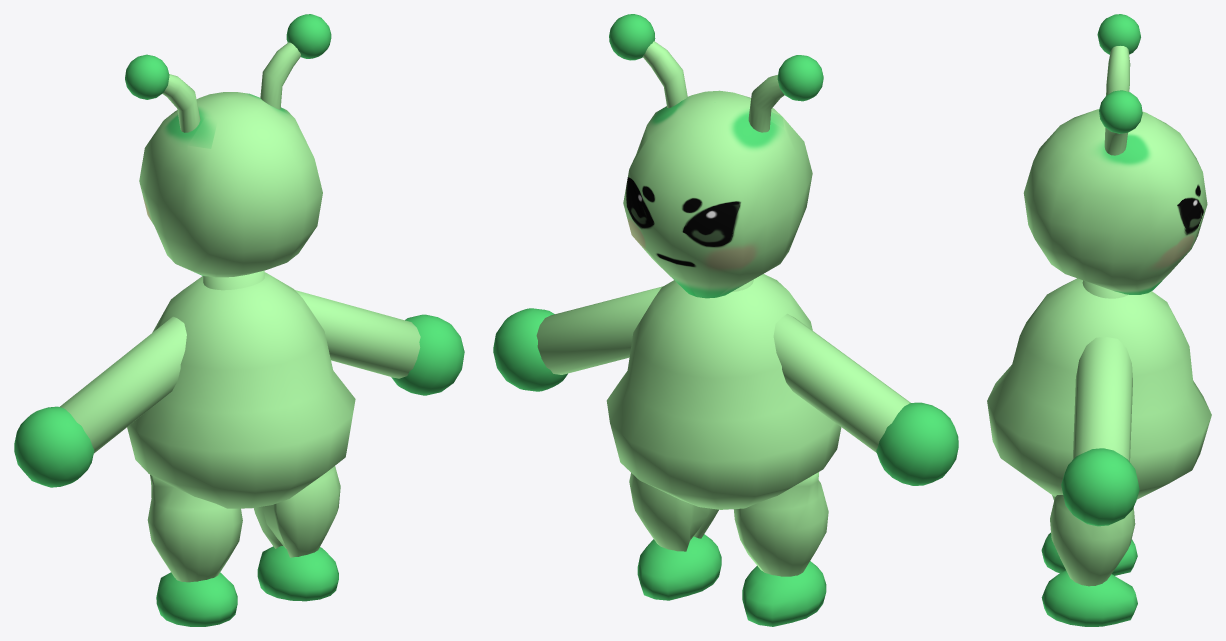
The model's file is alien.fbx.
The picture shows the model from 3 angles, left to right: view 1: azimuth 30°, elevation 25°; view 2: azimuth 150°, elevation 25°; view 3: azimuth 270°, elevation 25°; orthographic projection. The views are drawn at different scales.
Visible parts, largest first — view 1: Sphere.005, Sphere, Cylinder, Sphere.009, Cylinder.001, Sphere.010, Sphere.006, Sphere.007, Sphere.011, Sphere.008, Sphere.003, Sphere.002 (+2 smaller); view 2: Sphere.005, Sphere, Cylinder, Sphere.009, Cylinder.001, Sphere.010, Sphere.007, Sphere.008, Sphere.011, Sphere.006, Sphere.003, Sphere.002 (+2 smaller); view 3: Sphere.005, Sphere, Cylinder.001, Sphere.011, Sphere.006, Sphere.007, Sphere.002, Sphere.003, Sphere.004, Sphere.008, Sphere.001.
Boxes of the visible parts, bbox=[...] form: Sphere.005: bbox=[127, 270, 355, 508]; Sphere: bbox=[139, 92, 322, 277]; Cylinder: bbox=[60, 316, 186, 453]; Sphere.009: bbox=[147, 475, 242, 582]; Cylinder.001: bbox=[295, 290, 420, 378]; Sphere.010: bbox=[14, 406, 94, 487]; Sphere.006: bbox=[253, 466, 340, 557]; Sphere.007: bbox=[257, 546, 338, 601]; Sphere.011: bbox=[391, 314, 464, 395]; Sphere.008: bbox=[156, 572, 237, 626]; Sphere.003: bbox=[125, 54, 169, 99]; Sphere.002: bbox=[286, 14, 331, 58]; Sphere.005: bbox=[606, 274, 841, 509]; Sphere: bbox=[623, 90, 812, 298]; Cylinder: bbox=[773, 313, 910, 452]; Sphere.009: bbox=[734, 472, 828, 576]; Cylinder.001: bbox=[536, 286, 662, 374]; Sphere.010: bbox=[876, 402, 958, 485]; Sphere.007: bbox=[637, 534, 721, 600]; Sphere.008: bbox=[742, 561, 826, 626]; Sphere.011: bbox=[493, 308, 567, 391]; Sphere.006: bbox=[629, 473, 718, 551]; Sphere.003: bbox=[777, 55, 823, 101]; Sphere.002: bbox=[609, 14, 655, 60]; Sphere.005: bbox=[987, 278, 1211, 499]; Sphere: bbox=[1023, 109, 1207, 294]; Cylinder.001: bbox=[1072, 337, 1132, 461]; Sphere.011: bbox=[1061, 448, 1139, 526]; Sphere.006: bbox=[1050, 495, 1135, 586]; Sphere.007: bbox=[1041, 570, 1137, 626]; Sphere.002: bbox=[1099, 90, 1142, 133]; Sphere.003: bbox=[1097, 14, 1140, 54]; Sphere.004: bbox=[1106, 46, 1130, 95]; Sphere.008: bbox=[1041, 532, 1137, 575]; Sphere.001: bbox=[1104, 127, 1127, 155].
Size of the model in its own units: 535 by 642 by 244.
